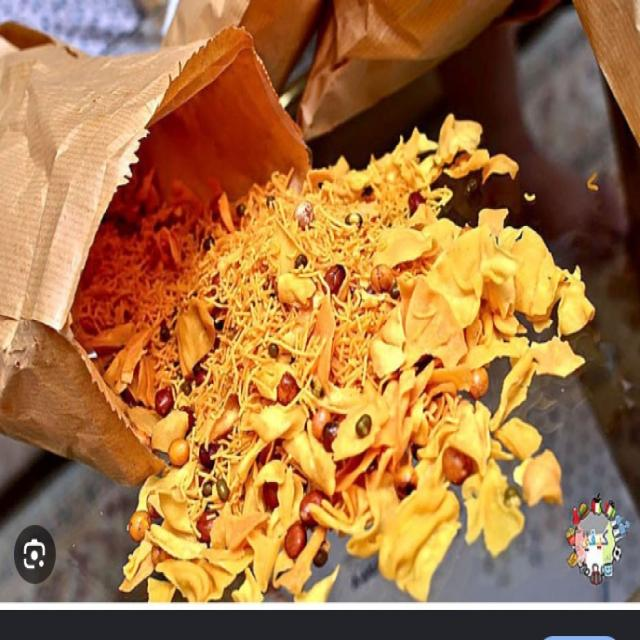Mattai: (82, 110, 594, 604)
